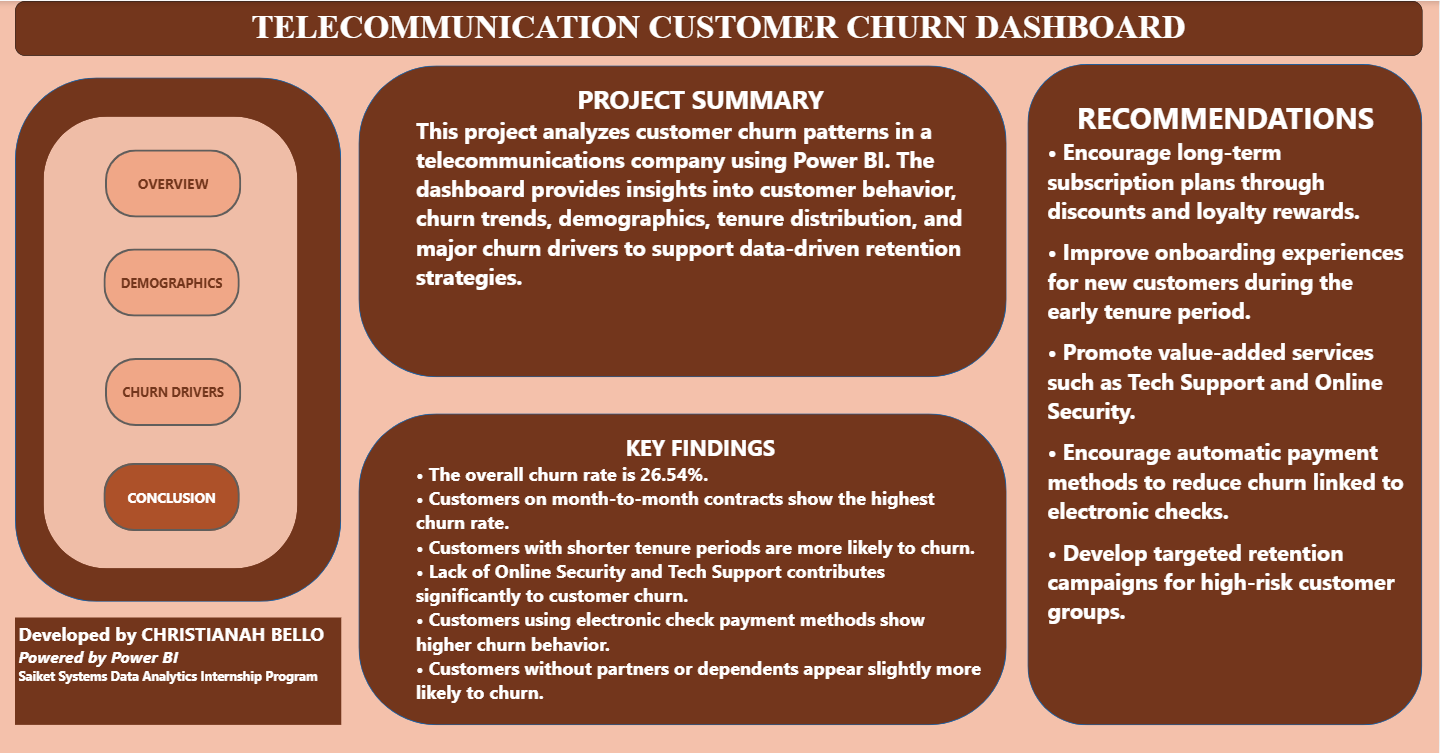

Layout of this report page (visuals, bound fields, positions):
{"tool":"powerbi","page":{"name":"Conclusion and Recommendation","canvas":[2100,1100],"ordinal":3},"visuals":[{"type":"shape","title":"P","box":[524,93.4,945.6,454.7],"z":0},{"type":"shape","title":"P","box":[524,602.3,945.6,454.7],"z":1000},{"type":"textbox","box":[21.9,0,2053.4,80.2],"z":2000},{"type":"shape","title":"P","box":[21.1,111.4,475.8,764.9],"z":3000},{"type":"shape","box":[63.2,168.6,370.4,659.5],"z":4000},{"type":"actionButton","box":[153.6,216.8,198.8,99.4],"z":5000},{"type":"actionButton","box":[150.6,361.4,198.8,99.4],"z":6000},{"type":"actionButton","box":[153.6,521,198.8,99.4],"z":7000},{"type":"textbox","box":[602.3,111.4,840.2,409.6],"z":8000},{"type":"textbox","box":[602.7,624.5,840.8,405.8],"z":9000},{"type":"textbox","box":[21.1,900.4,475.8,156.6],"z":10000},{"type":"shape","title":"P","box":[1499.4,92.3,575.9,964.7],"z":11000},{"type":"textbox","box":[1523.8,135.5,530,843.2],"z":12000},{"type":"actionButton","box":[150.6,674.6,198.8,99.4],"z":13000}]}

Visuals, with their boxes in screenshot pixels (x1, y1, x2, y2), scaled from the page's 2100x1100 canvas onto the 1440x753 screenshot:
"P" shape: BBox(359, 64, 1008, 375)
"P" shape: BBox(359, 412, 1008, 724)
textbox: BBox(15, 0, 1423, 55)
"P" shape: BBox(14, 76, 341, 600)
shape: BBox(43, 115, 297, 567)
actionButton: BBox(105, 148, 242, 216)
actionButton: BBox(103, 247, 240, 315)
actionButton: BBox(105, 357, 242, 425)
textbox: BBox(413, 76, 989, 357)
textbox: BBox(413, 427, 990, 705)
textbox: BBox(14, 616, 341, 724)
"P" shape: BBox(1028, 63, 1423, 724)
textbox: BBox(1045, 93, 1408, 670)
actionButton: BBox(103, 462, 240, 530)
